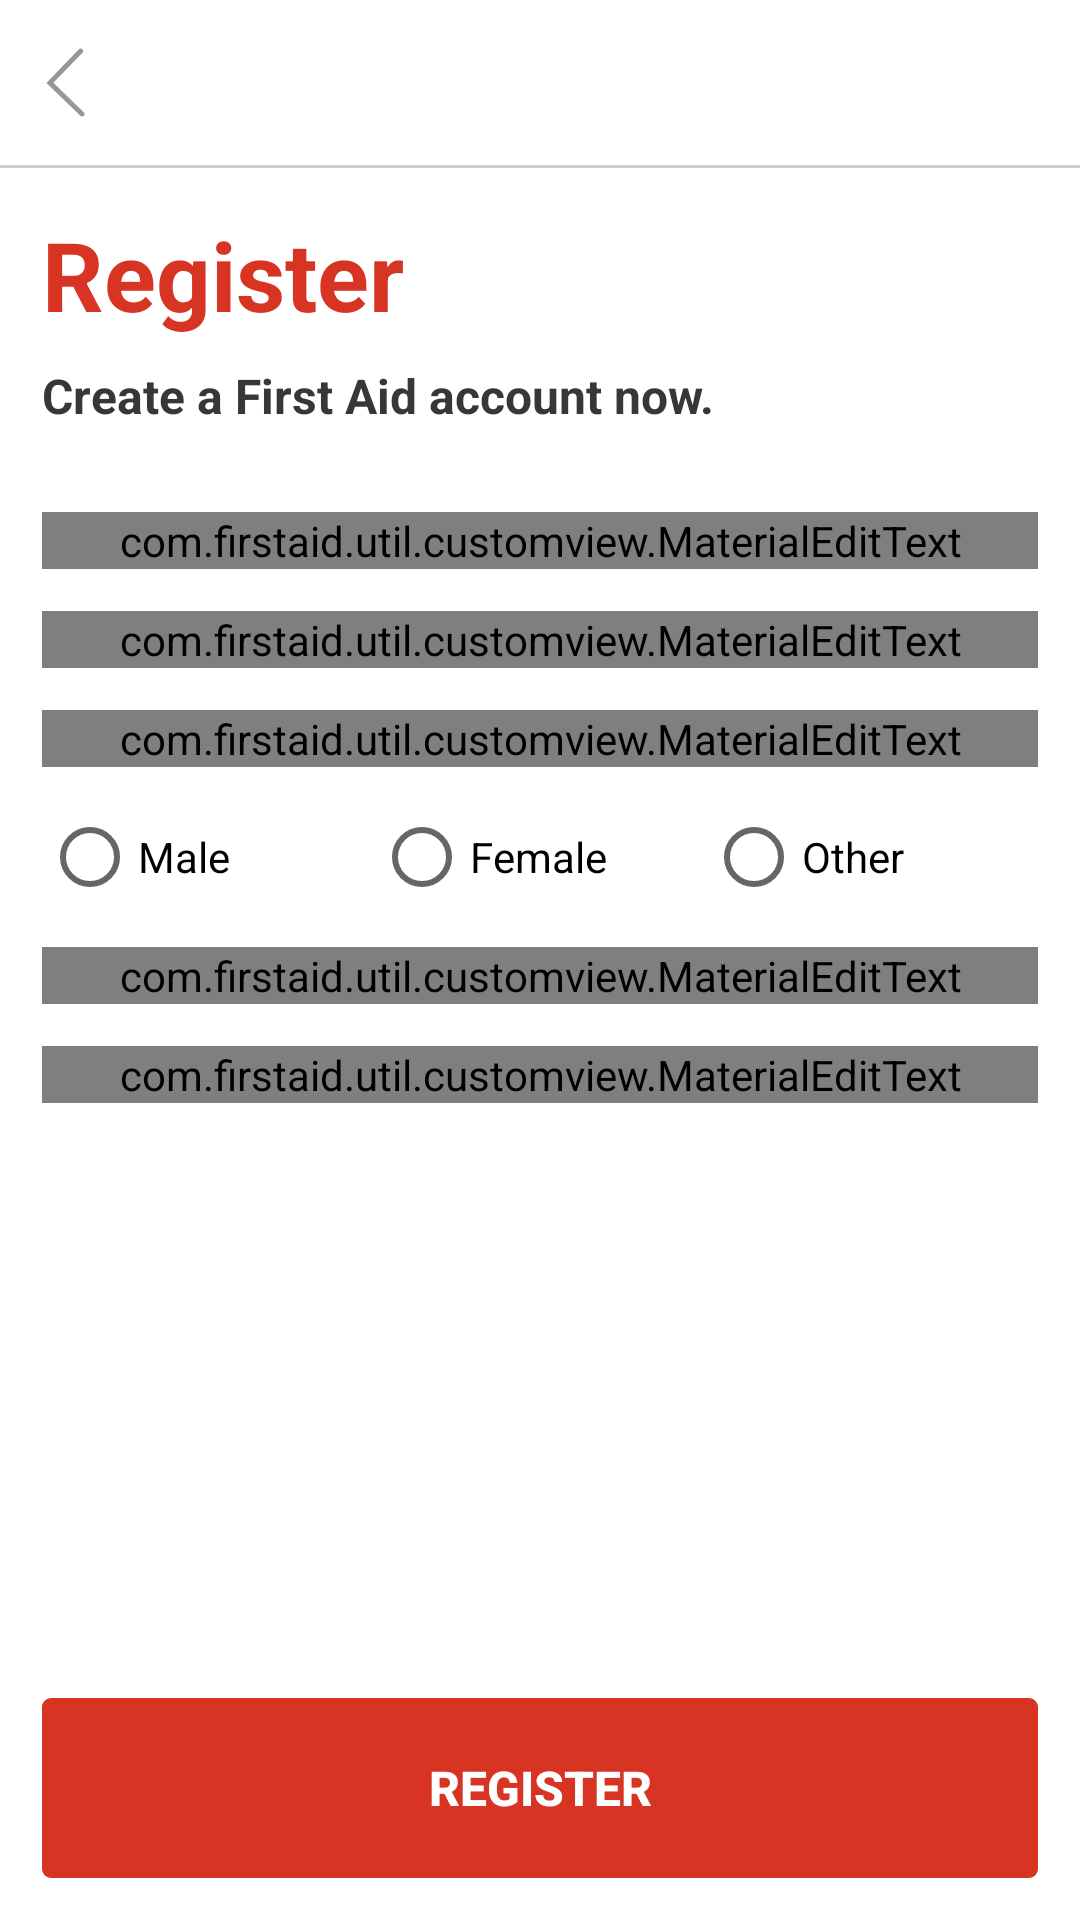

Icons on this 1080px×1920px Android screen, each with its box as [x1, y1, x2, y2]:
back: [47, 48, 85, 117]
